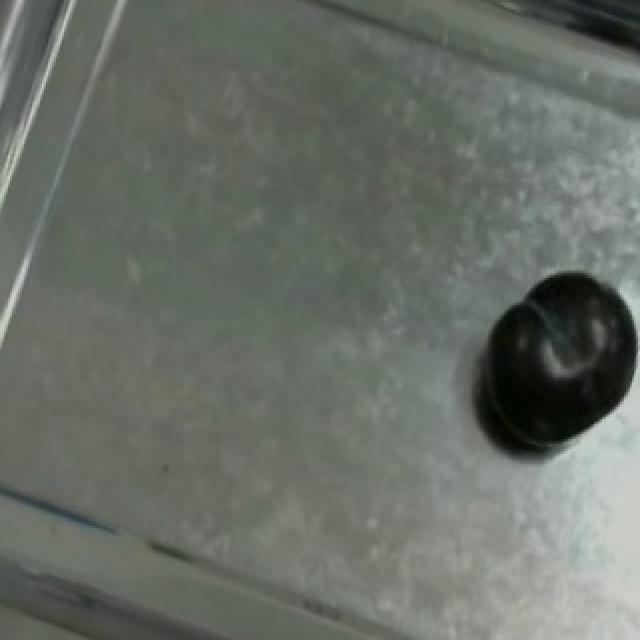Fruit: (460, 251, 640, 476)
